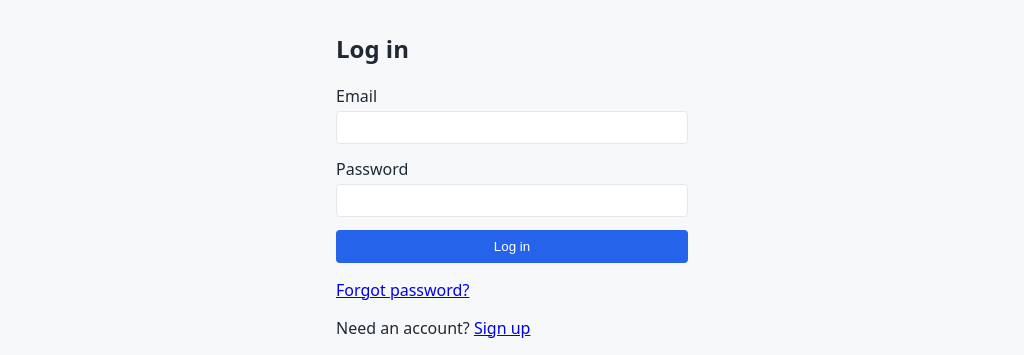
Test case: LoginPage › logs in with valid credentials and routes to the board (positive)
Type "user@example.com" into the field labelled "Email" at (512, 127), box [336,111,688,144]
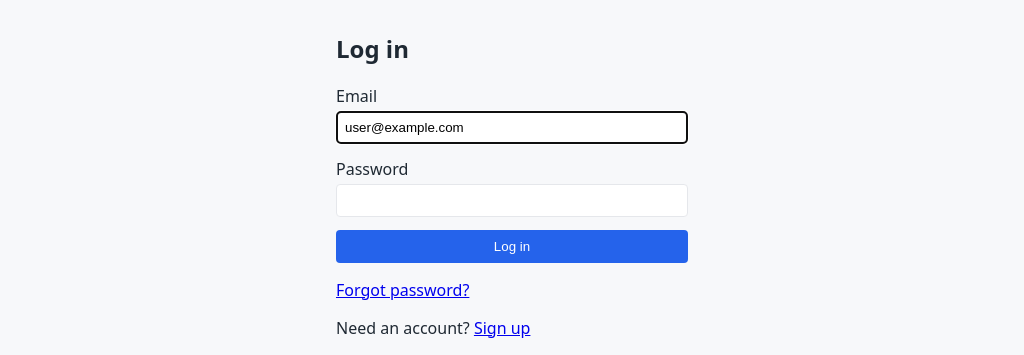
Type "password1" into the password field labelled "Password" at (512, 200), box [336,184,688,216]
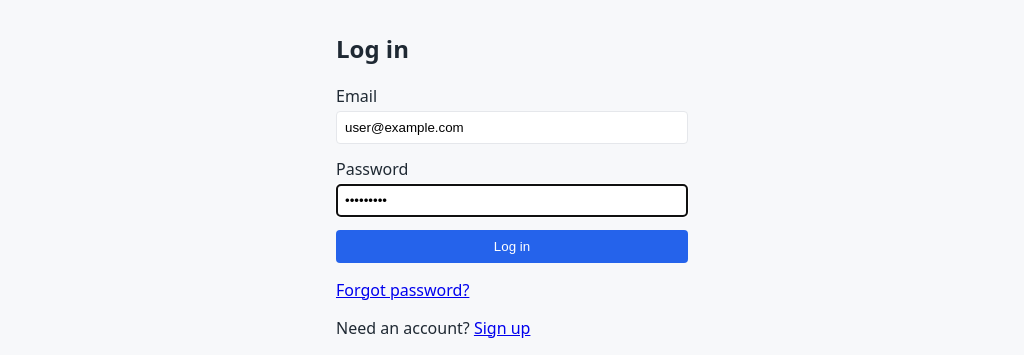
Click the button "Log in" at (512, 246), box [336,230,688,263]
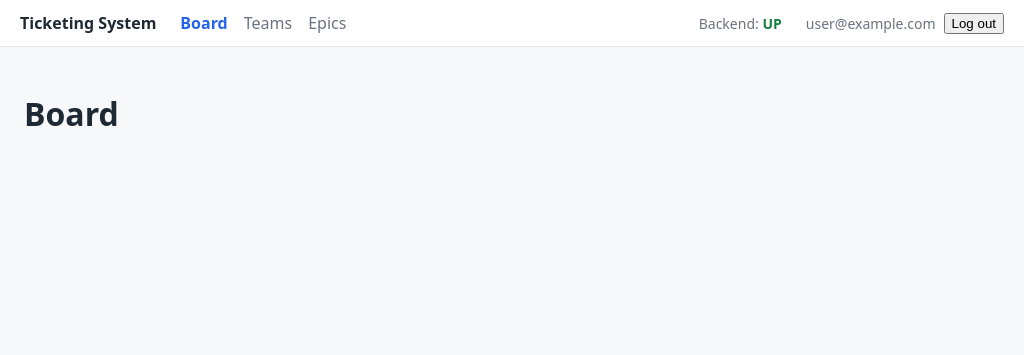
expect the heading "Board" is shown: met, box [24,92,119,135]
expect the text "user@example.com" is shown: met, box [806,14,936,32]
